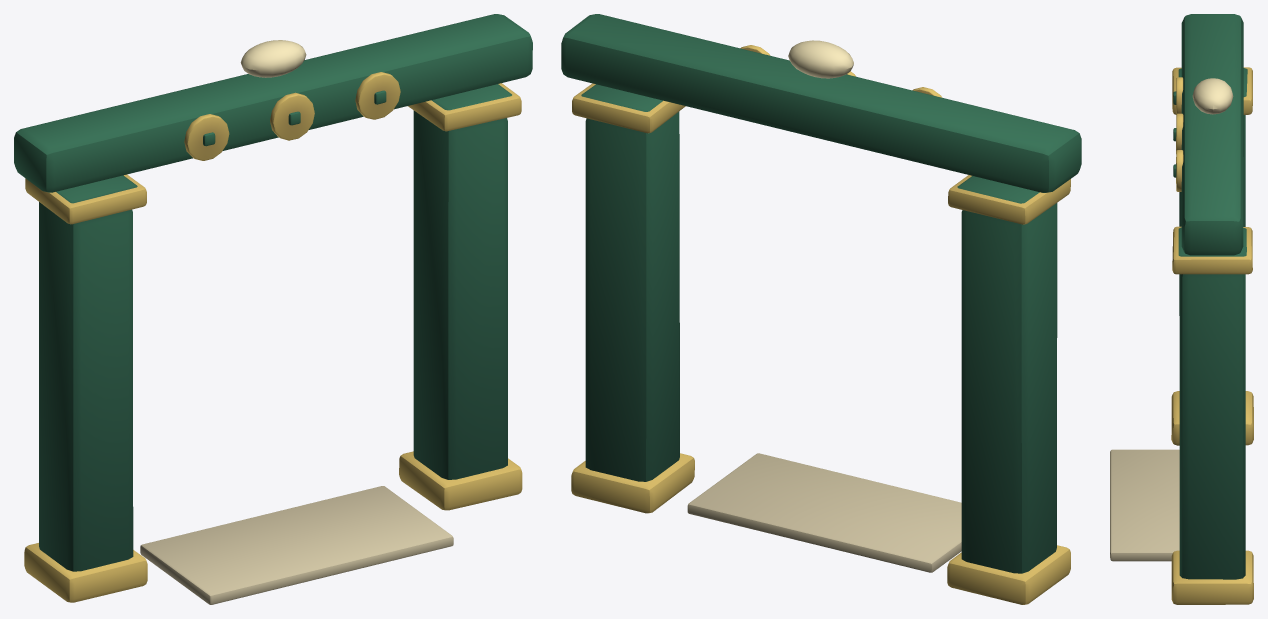
3 renders of one model, left to right at view 1: azimuth 30°, elevation 25°; view 2: azimuth 150°, elevation 25°; view 3: azimuth 270°, elevation 25°, orthographic. The views are drawn at different scales.
Visible parts, largest first — view 1: gate_3bb635bb; view 2: gate_3bb635bb; view 3: gate_3bb635bb.
Part boxes in pixels (x1=…): gate_3bb635bb: x1=14, y1=14, x2=532, y2=604; gate_3bb635bb: x1=561, y1=14, x2=1081, y2=604; gate_3bb635bb: x1=1110, y1=14, x2=1253, y2=604.
Bounding box in the file's own units: 4.83 × 4.6 × 1.4.
